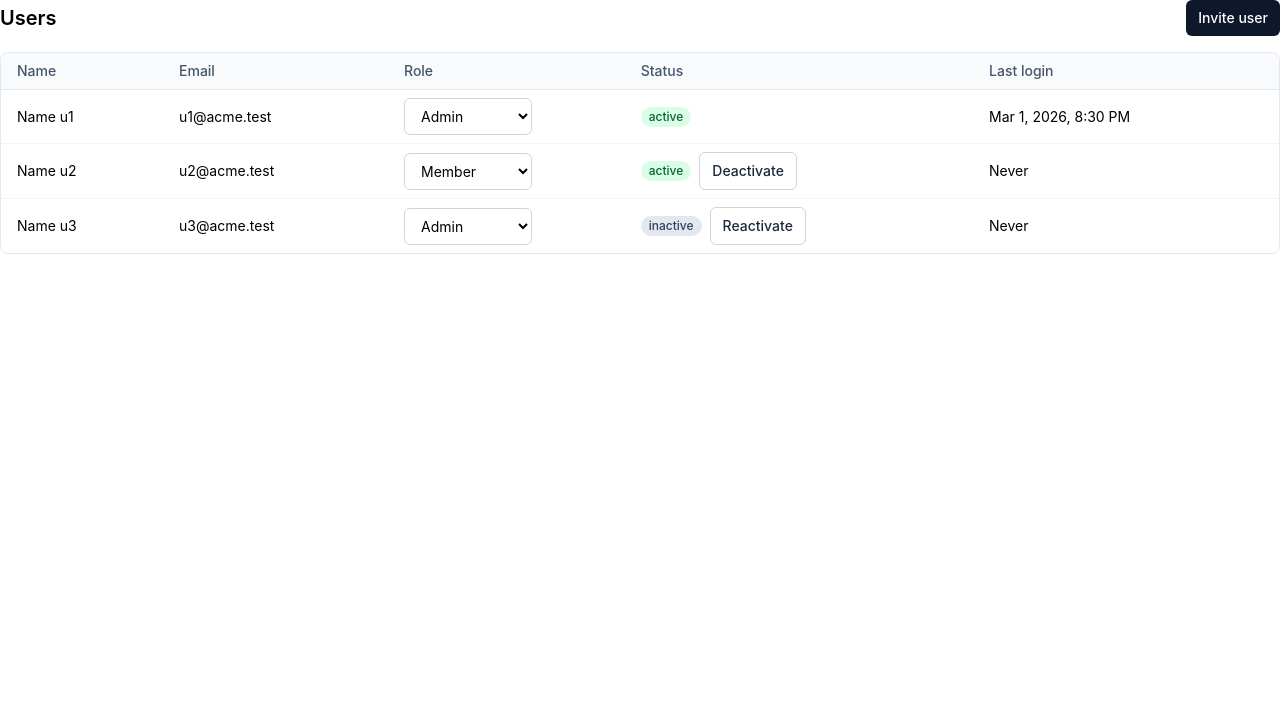
Test: UsersPage › invites a user, shows the temporary password once, and drops it on Done
Expected: the text "Name u2" is shown, [1, 144, 163, 198]
Click the button "Invite user": {"x": 1233, "y": 18} [1186, 0, 1279, 36]
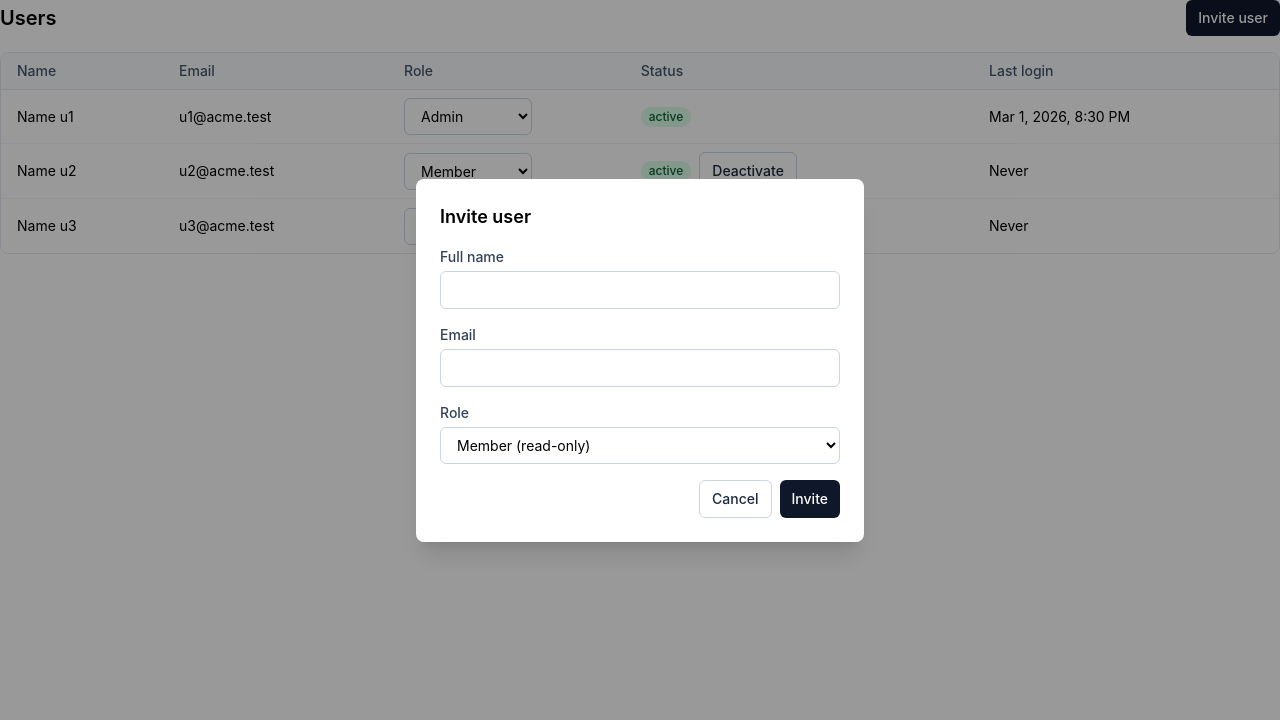
In the field labelled "Full name": {"x": 640, "y": 290} [440, 270, 840, 308], type "New Person"
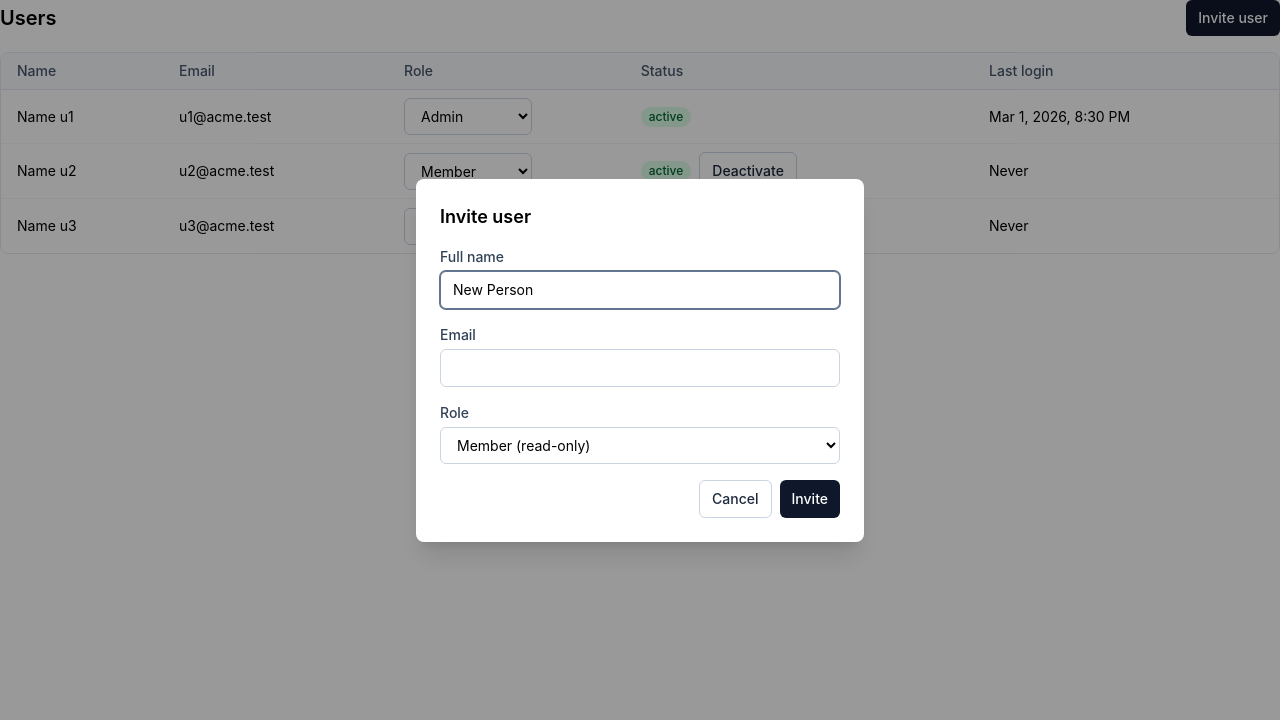
In the field labelled "Email": {"x": 640, "y": 368} [440, 348, 840, 386], type "new@acme.test"
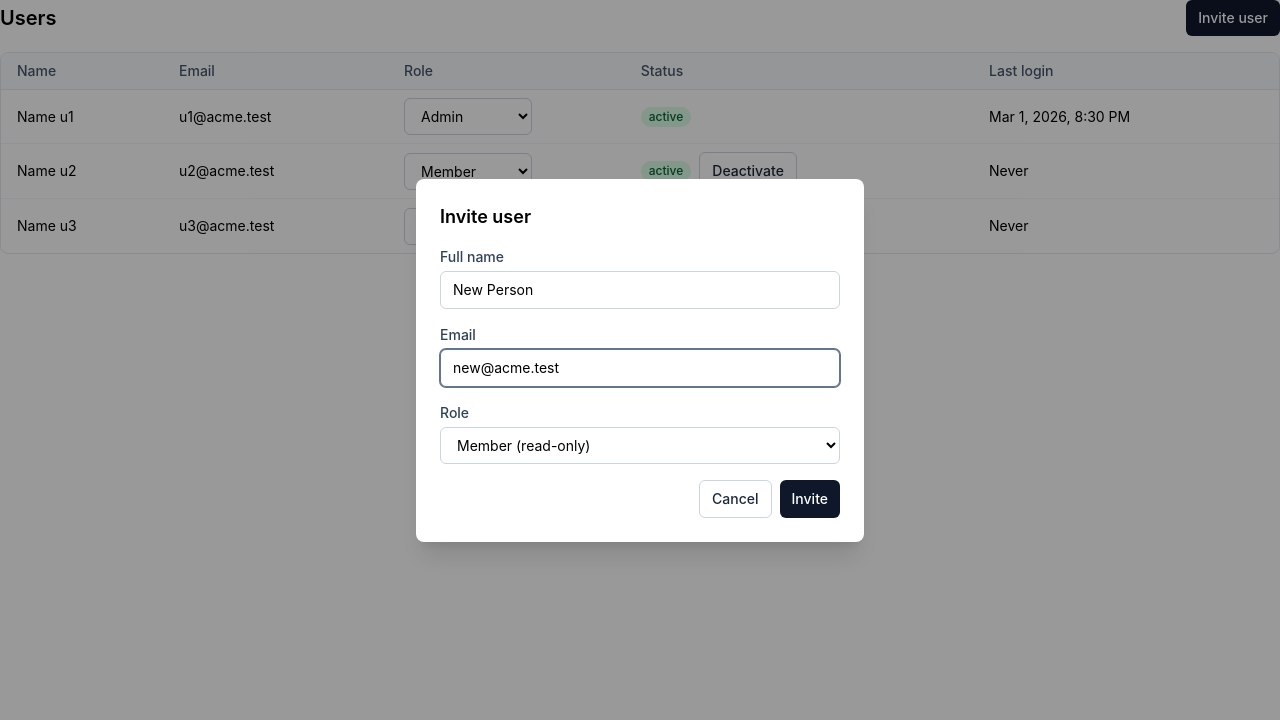
Select "Admin" in the dropdown labelled "Role": {"x": 640, "y": 445} [440, 426, 840, 464]
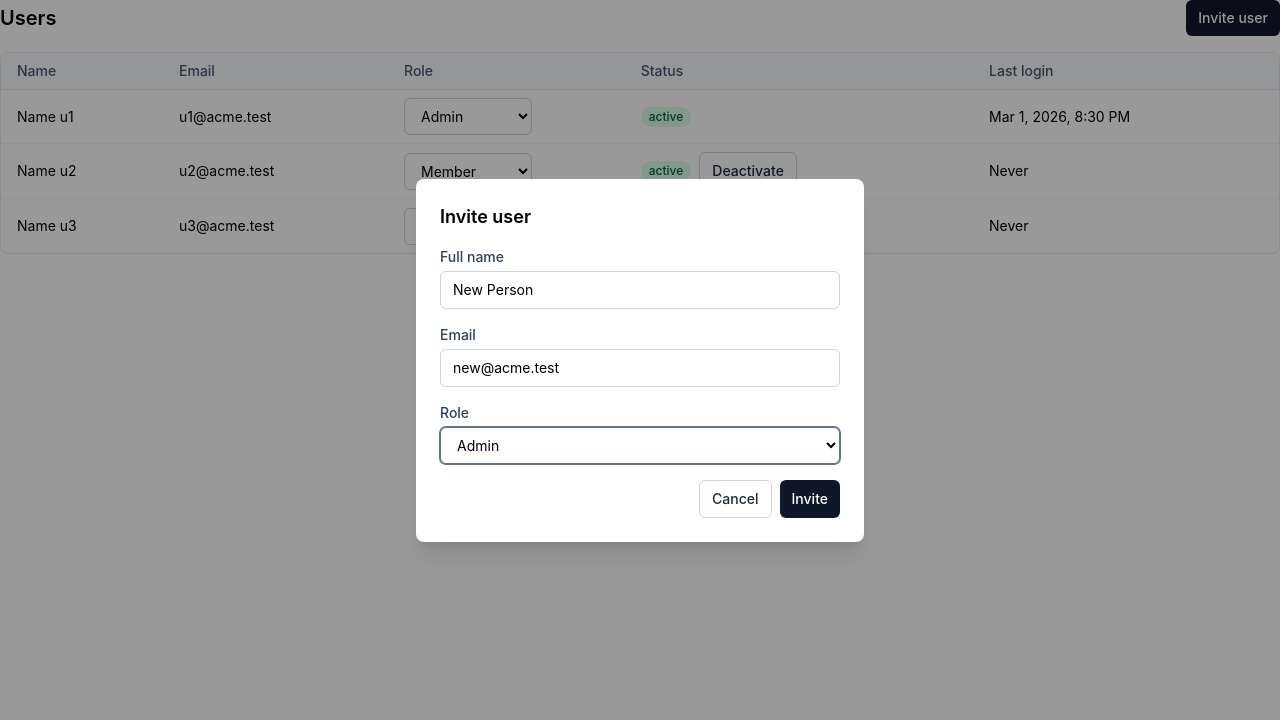
Click the button "Invite": {"x": 810, "y": 498} [780, 480, 840, 518]
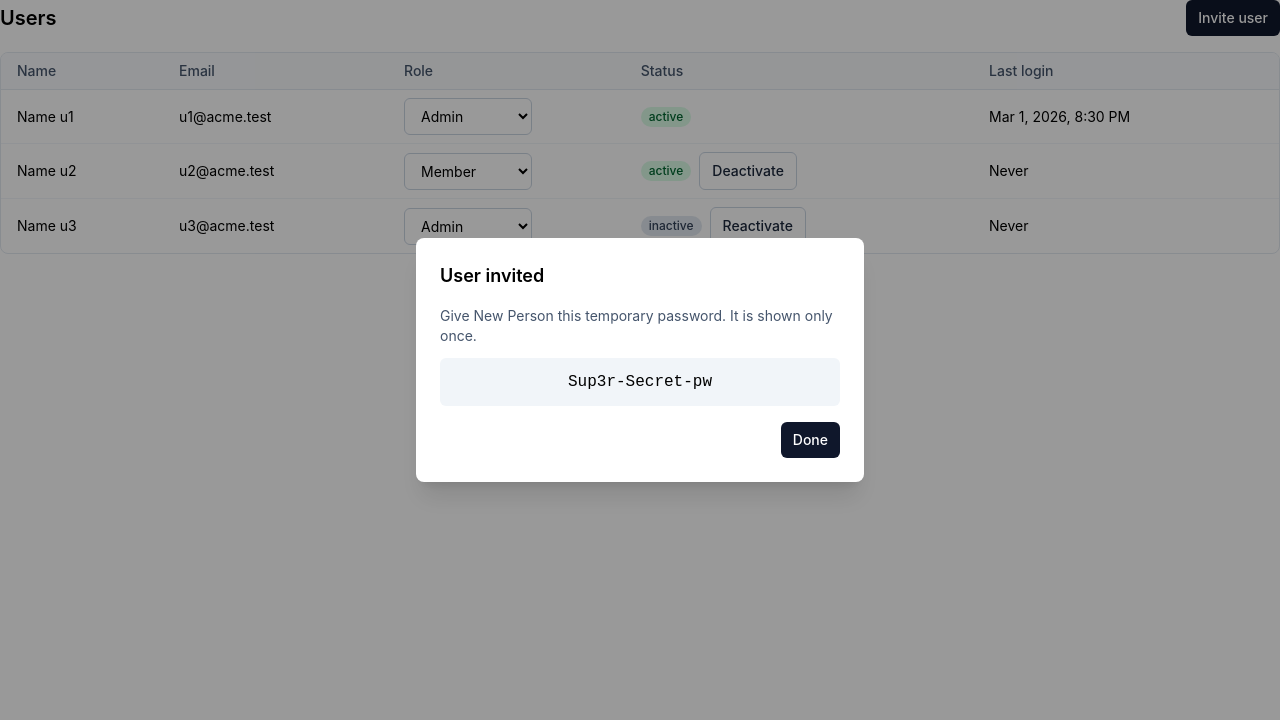
Expected: the text "Sup3r-Secret-pw" is shown, [440, 358, 840, 406]
Click the button "Done": {"x": 810, "y": 440} [781, 422, 840, 458]
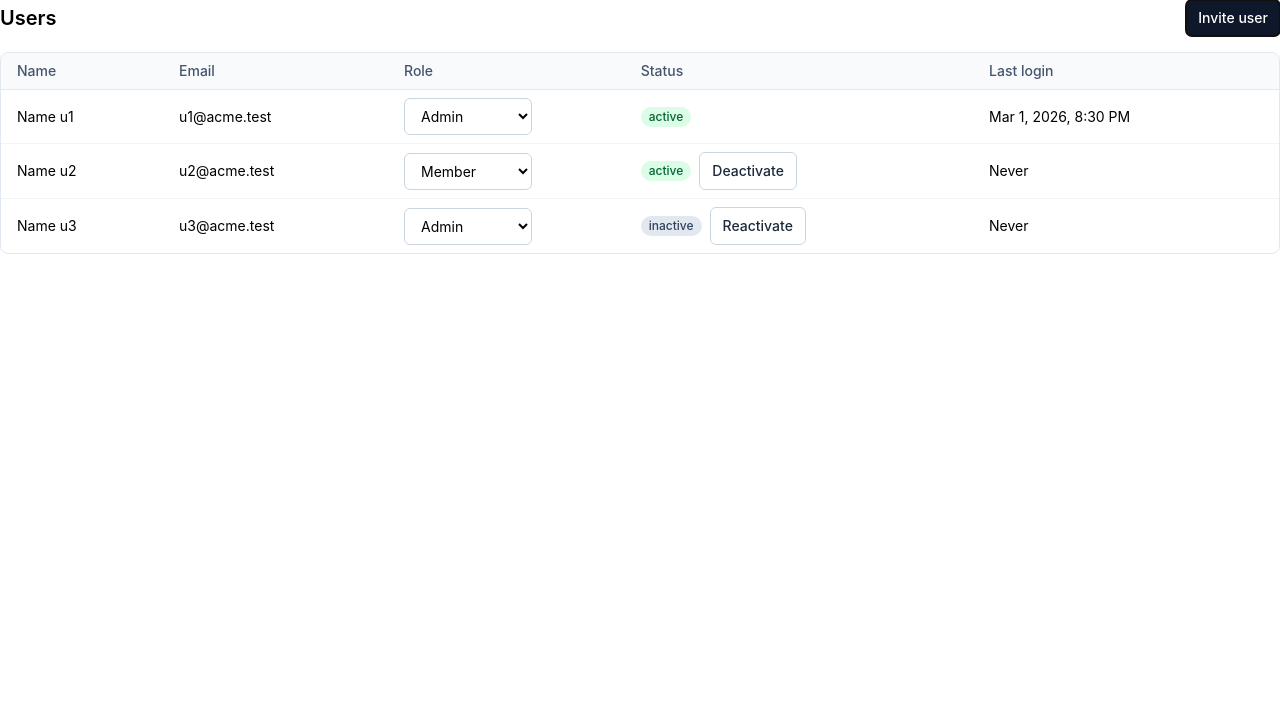
Expected: the dialog is gone
Expected: the text "Sup3r-Secret-pw" is gone
